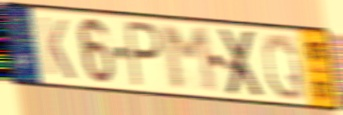6: (76, 15, 116, 88)
K: (37, 14, 77, 83)
M: (159, 24, 221, 95)
P: (124, 18, 165, 91)
Q: (261, 31, 308, 103)
X: (218, 27, 267, 99)
